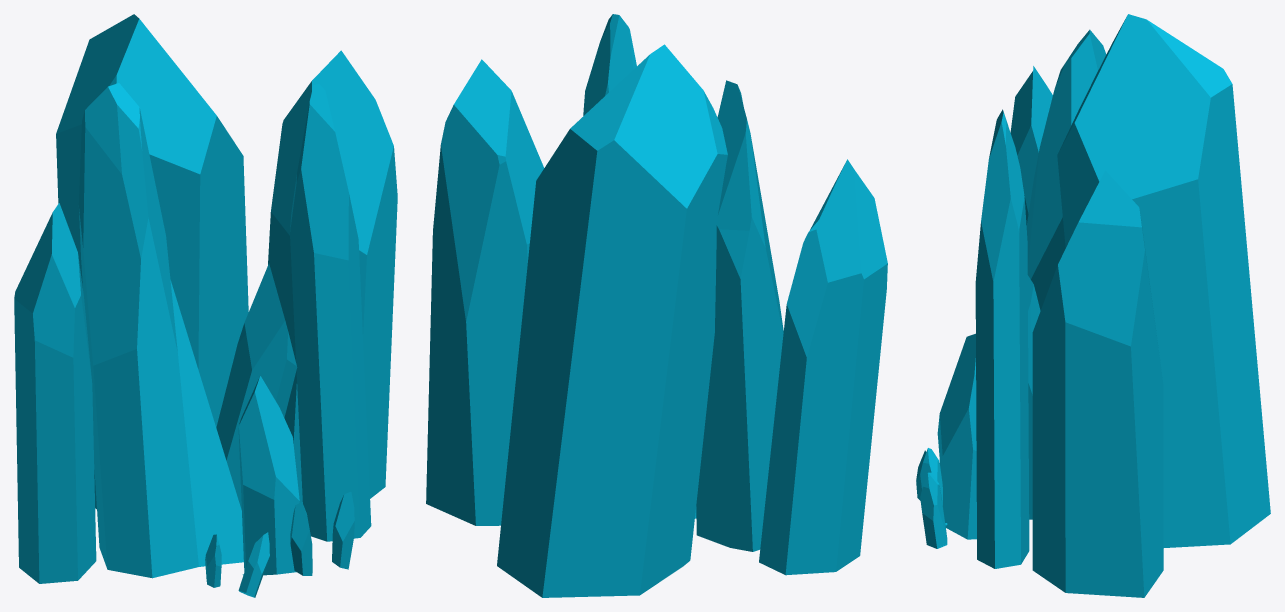
File: ice wall 2.fbx
3 renders of one model, left to right at view 1: azimuth 30°, elevation 25°; view 2: azimuth 150°, elevation 25°; view 3: azimuth 270°, elevation 25°, orthographic. The views are drawn at different scales.
Visible parts, largest first — view 1: ice wall2; view 2: ice wall2; view 3: ice wall2.
Boxes of the visible parts, x1,y1,x2,y2 form: ice wall2: [14, 14, 397, 597]; ice wall2: [426, 14, 887, 597]; ice wall2: [916, 14, 1270, 597].
Size of the model in its own units: 277 by 352 by 228.
